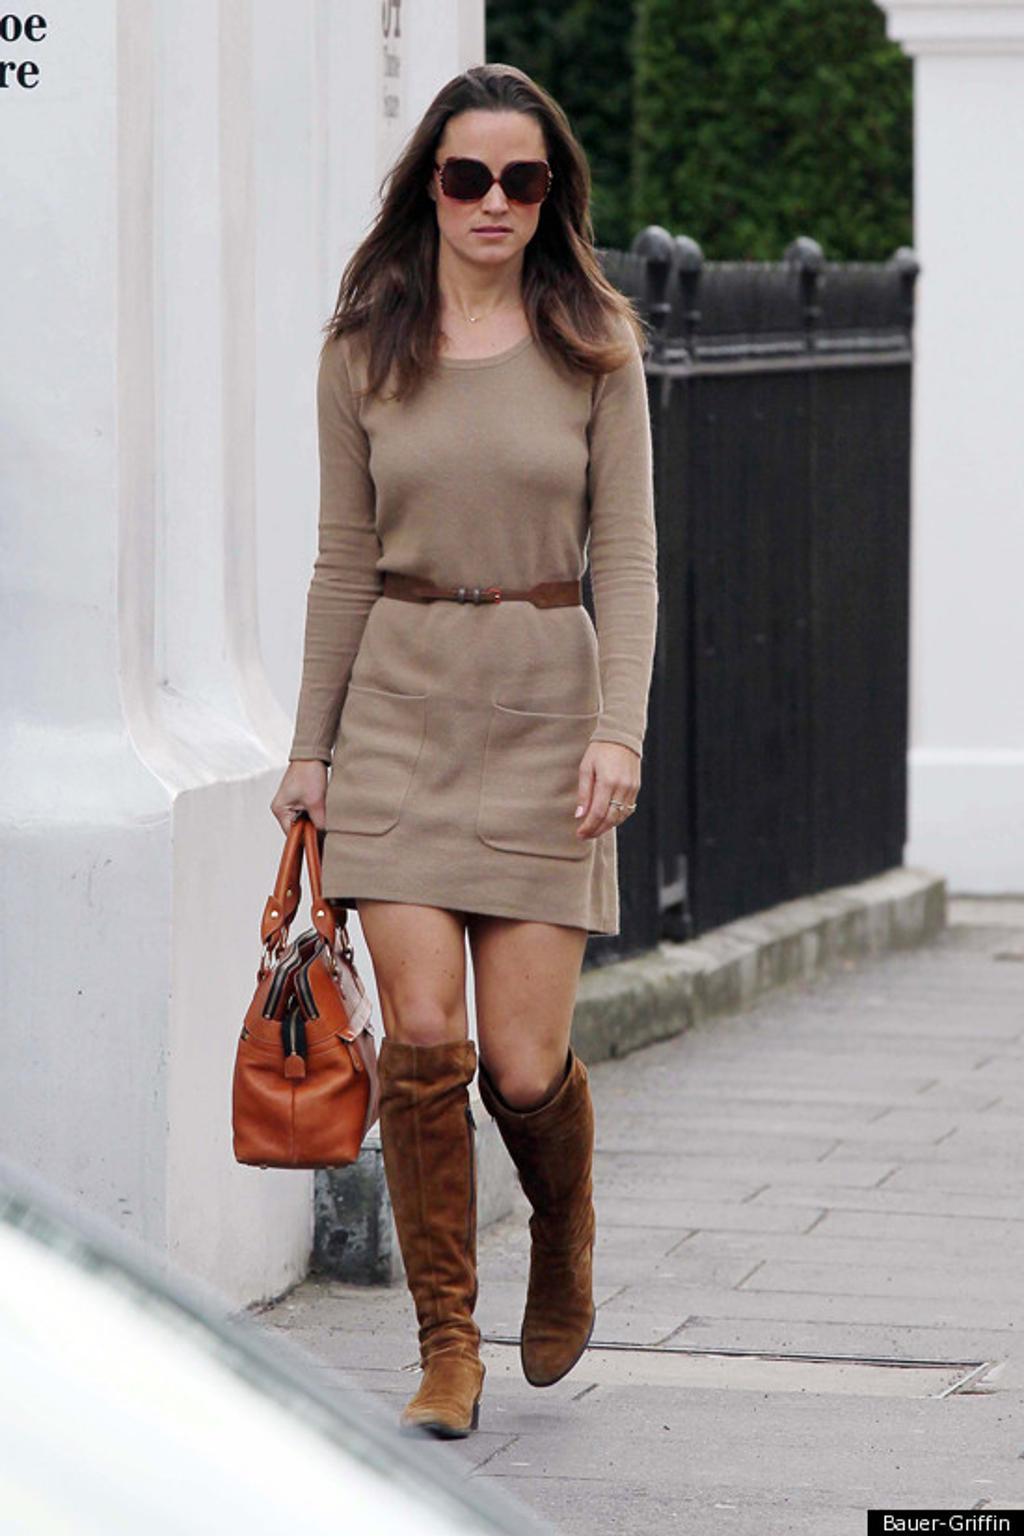face: (438, 111, 549, 264)
